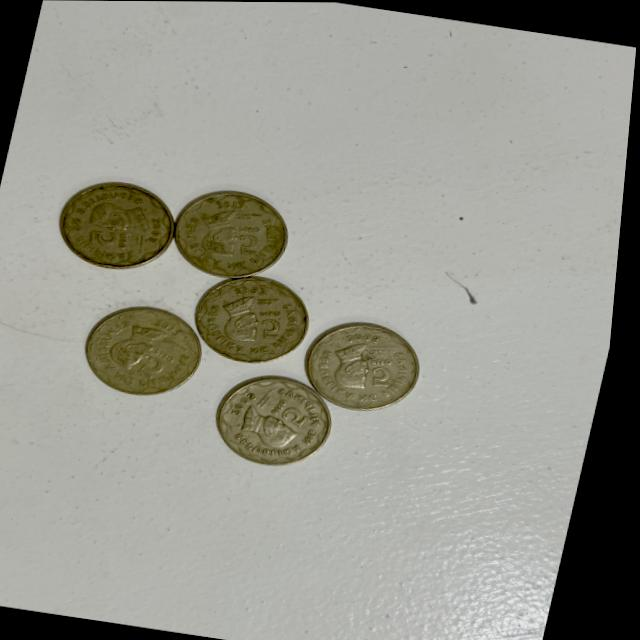5_Old_Front: (135, 342, 185, 389), (85, 222, 145, 257), (266, 394, 321, 429), (367, 348, 403, 396), (258, 300, 300, 339), (237, 218, 270, 264)
